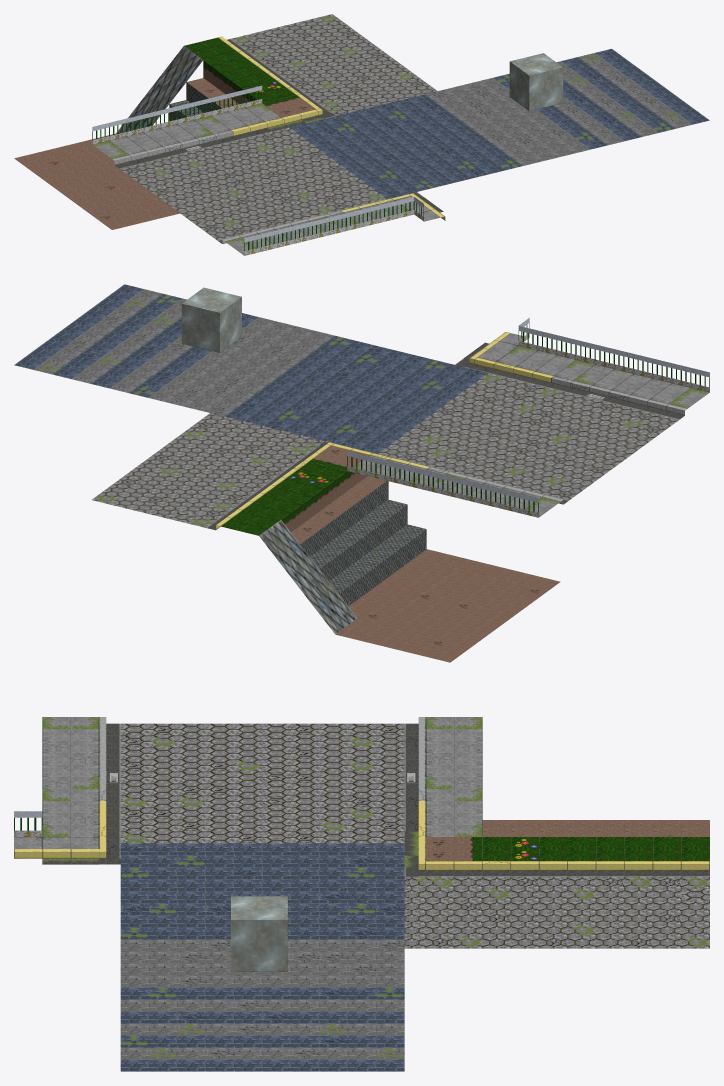
3 views of the same model, one above another, from view 1: azimuth 30°, elevation 25°; view 2: azimuth 150°, elevation 25°; view 3: azimuth 270°, elevation 25° (orthographic). The views are drawn at different scales.
Parts seen in each view (by area): view 1: fance_Plane.000, Cube; view 2: fance_Plane.000, Cube; view 3: fance_Plane.000, Cube.
Boxes of the visible parts, x1,y1,x2,y2 form: fance_Plane.000: (14,14,709,255); Cube: (509,53,563,111); fance_Plane.000: (14,284,709,662); Cube: (181,287,241,352); fance_Plane.000: (14,717,709,1071); Cube: (231,896,287,971).
Bounding box in the file's own units: 58 × 13.3 × 49.
3 materials, 3 textured.
